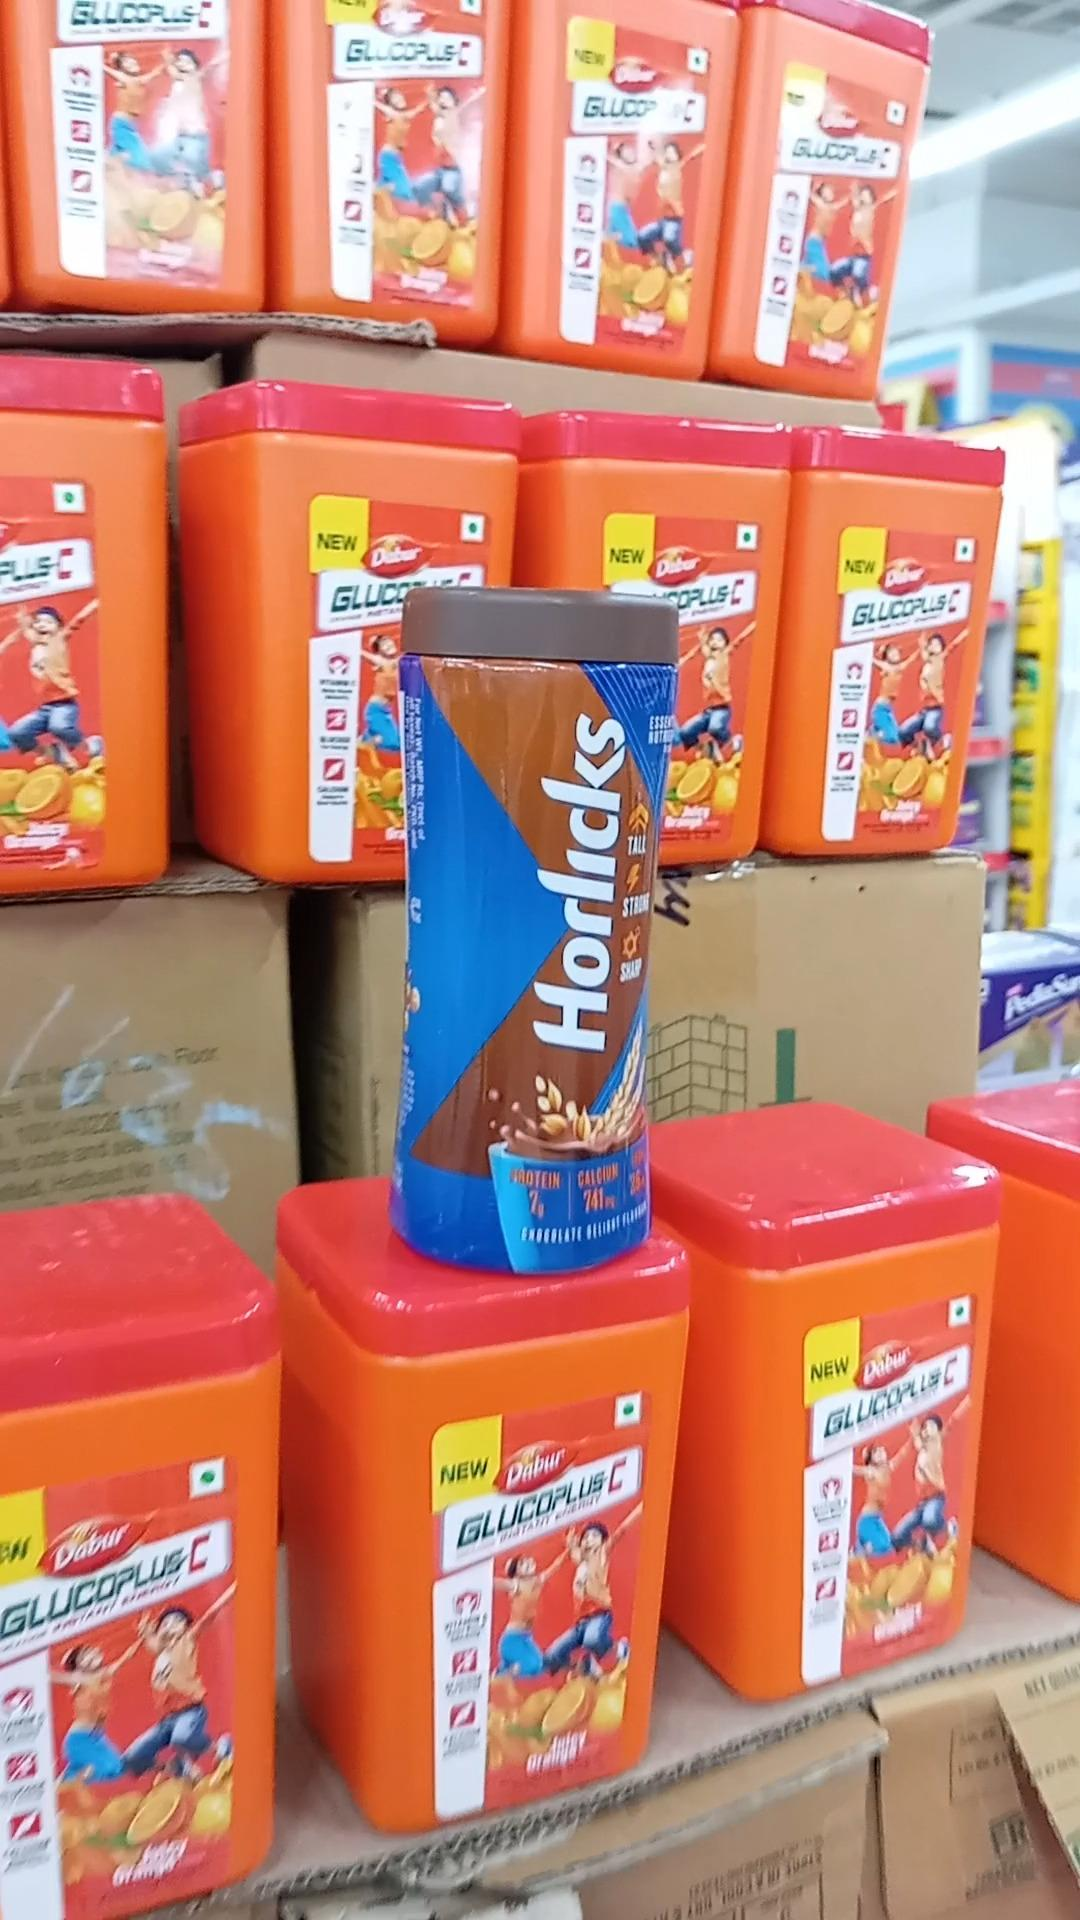HORLICK_CHOCOLATE_500_G_JAR: (396, 579, 662, 1266)
